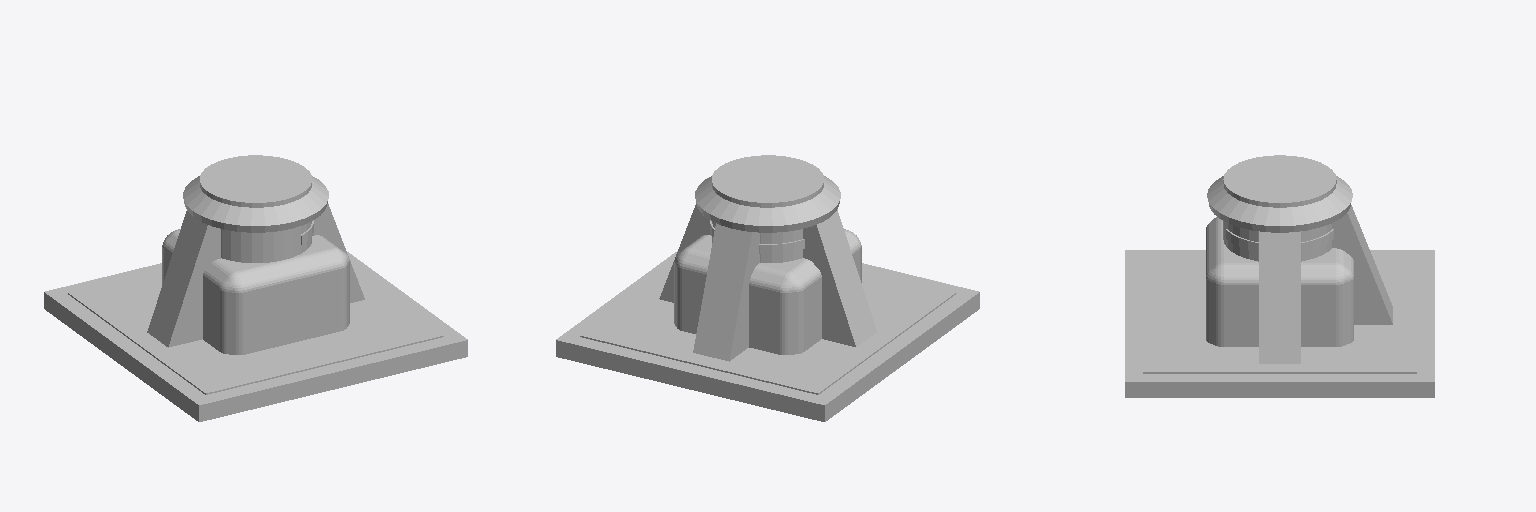
The model's file is 505bot.obj.
3 views of the same model, side by side, from view 1: azimuth 30°, elevation 25°; view 2: azimuth 150°, elevation 25°; view 3: azimuth 270°, elevation 25° (orthographic).
Visible parts, largest first — view 1: Cube.061_Cube.082; view 2: Cube.061_Cube.082; view 3: Cube.061_Cube.082.
Boxes of the visible parts, <box> form: Cube.061_Cube.082: <box>44,155,467,421</box>; Cube.061_Cube.082: <box>556,155,979,421</box>; Cube.061_Cube.082: <box>1125,155,1434,397</box>.
Bounding box in the file's own units: 5.49 × 2.99 × 5.49.